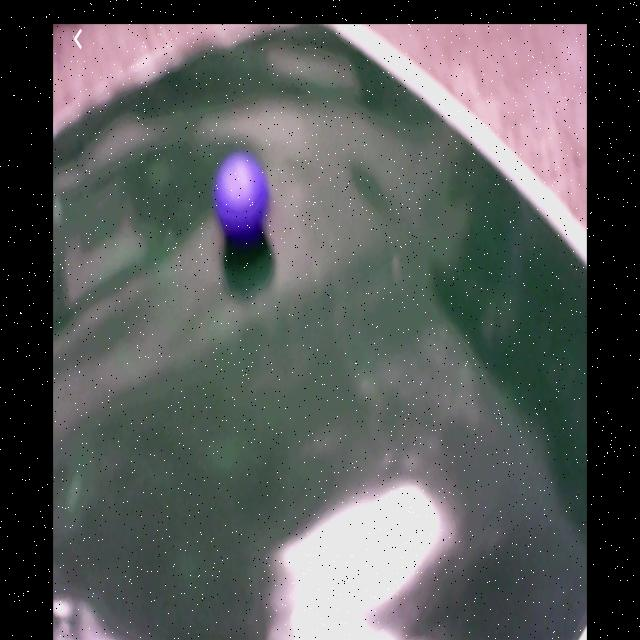ball: (214, 154, 272, 244)
